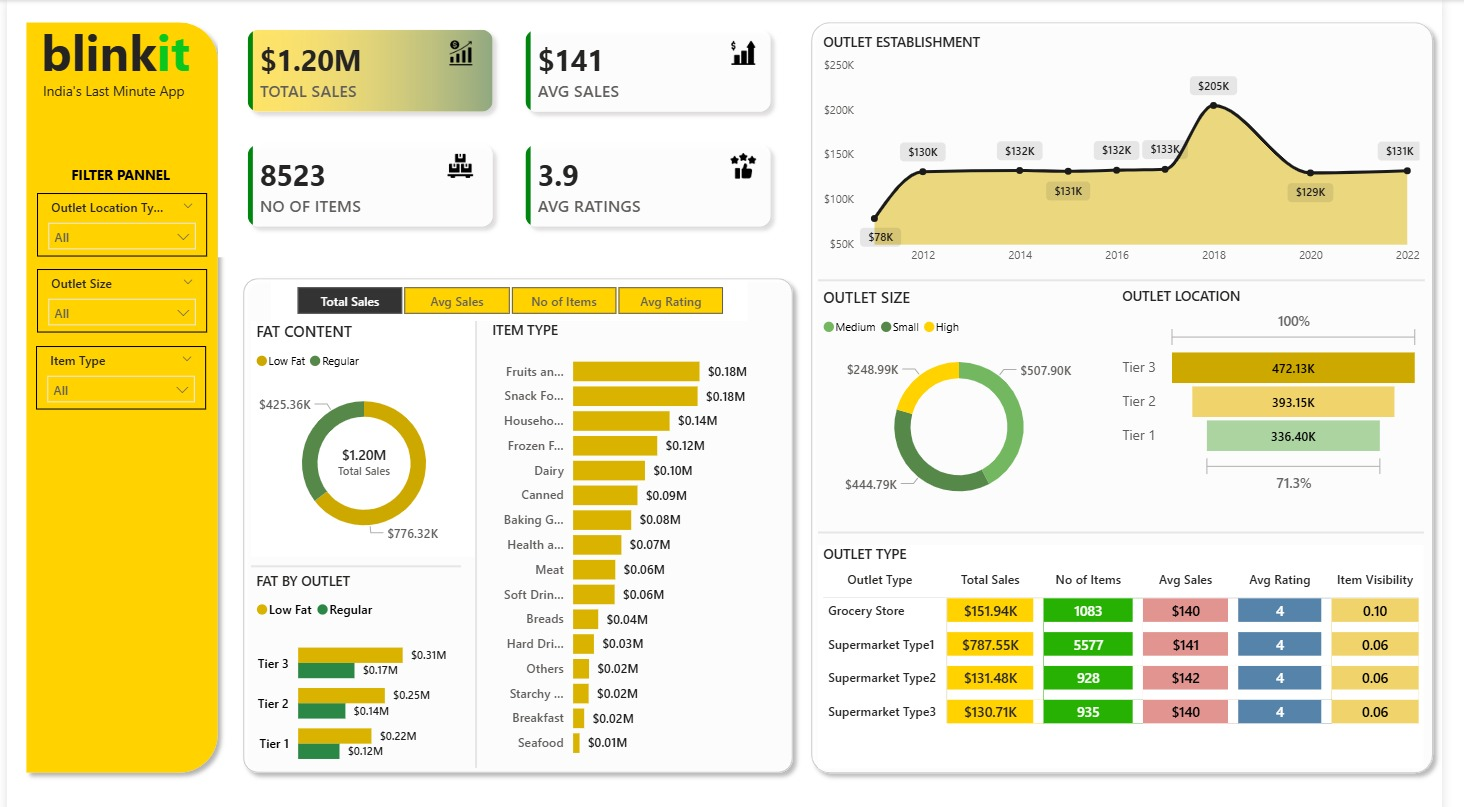

What the dashboard file says about the page in this screenshot:
{"tool":"powerbi","page":{"name":"Page 1","canvas":[1400,800],"ordinal":0},"visuals":[{"type":"shape","box":[9.8,12.7,204.9,750.2],"z":0},{"type":"textbox","box":[28.7,12.8,167,78.7],"z":1000},{"type":"textbox","box":[20.2,75.5,167,31.9],"z":2000},{"type":"cardVisual","fields":{"Data":["BlinkIT Grocery Data.Total Sales","BlinkIT Grocery Data.Avg Sales","BlinkIT Grocery Data.No of Items","BlinkIT Grocery Data.Avg Rating"]},"box":[205.9,0,569.8,250.7],"z":3000},{"type":"image","box":[408.8,39,68.3,25.4],"z":4000},{"type":"image","box":[684.9,39,67.3,25.4],"z":5000},{"type":"image","box":[408.8,149.3,67.3,25.4],"z":6000},{"type":"image","box":[684.9,149.3,67.3,25.4],"z":7000},{"type":"shape","box":[221.5,262.4,554.1,500.5],"z":8000},{"type":"donutChart","title":"FAT CONTENT","fields":{"Y":["BlinkIT Grocery Data.Total Sales"],"Category":["BlinkIT Grocery Data.Item Fat Content"]},"box":[238,313.2,220.5,230.2],"z":9000},{"type":"slicer","fields":{"Values":["Matrix.Matrix"]},"box":[257.6,273.2,465.4,40],"z":10000},{"type":"cardVisual","fields":{"Data":["BlinkIT Grocery Data.Total Sales"]},"box":[291.7,413.7,113.2,73.2],"z":11000},{"type":"clusteredBarChart","title":"FAT BY OUTLET","fields":{"Y":["BlinkIT Grocery Data.Total Sales"],"Category":["BlinkIT Grocery Data.Outlet Location Type"],"Series":["BlinkIT Grocery Data.Item Fat Content"]},"box":[237.6,558.2,220.2,204.8],"z":12000},{"type":"shape","box":[237.6,545.9,204.8,12.3],"z":13000},{"type":"shape","box":[446.5,313.4,21.5,436.3],"z":14000},{"type":"barChart","title":"ITEM TYPE","fields":{"Y":["BlinkIT Grocery Data.Total Sales"],"Category":["BlinkIT Grocery Data.Item Type"]},"box":[468,313.4,284.7,436.3],"z":15000},{"type":"shape","box":[775.3,12.3,624.7,750.7],"z":16000},{"type":"lineChart","title":"OUTLET ESTABLISHMENT","fields":{"Category":["BlinkIT Grocery Data.Outlet Establishment Year"],"Y":["BlinkIT Grocery Data.Total Sales"]},"box":[791.7,31.7,592,234.5],"z":17000},{"type":"shape","box":[791.7,267.3,592,12.3],"z":18000},{"type":"donutChart","title":"OUTLET SIZE","fields":{"Y":["BlinkIT Grocery Data.Total Sales"],"Category":["BlinkIT Grocery Data.Outlet Size"]},"box":[791.2,280,275.1,225.4],"z":19000},{"type":"funnel","title":"OUTLET LOCATION","fields":{"Y":["Sum(BlinkIT Grocery Data.Sales)"],"Category":["BlinkIT Grocery Data.Outlet Location Type"]},"box":[1082.9,280,300.5,206.8],"z":19001},{"type":"shape","box":[791.2,513.2,591.2,12.7],"z":19002},{"type":"pivotTable","title":"OUTLET TYPE","fields":{"Values":["BlinkIT Grocery Data.Total Sales","BlinkIT Grocery Data.No of Items","BlinkIT Grocery Data.Avg Sales","BlinkIT Grocery Data.Avg Rating","Avg(BlinkIT Grocery Data.Item Visibility)"],"Rows":["BlinkIT Grocery Data.Outlet Type"]},"box":[791.2,531.7,591.2,217.6],"z":19003},{"type":"slicer","fields":{"Values":["BlinkIT Grocery Data.Outlet Location Type"]},"box":[29.3,188.3,165.9,62.4],"z":19004},{"type":"slicer","fields":{"Values":["BlinkIT Grocery Data.Outlet Size"]},"box":[29.3,262.4,165.9,62.4],"z":19005},{"type":"slicer","fields":{"Values":["BlinkIT Grocery Data.Item Type"]},"box":[28.3,337.6,165.9,62.4],"z":19006},{"type":"textbox","box":[56.6,157.1,108.3,31.2],"z":19007}]}

Visuals, with their boxes on the page's 1400x800 design canvas (x1, y1, x2, y2). These are canvas units, not pixel positions in the 1464x807 screenshot, which may show the page scaled, cropped or inside an application window:
shape: Rect(10, 13, 215, 763)
textbox: Rect(29, 13, 196, 92)
textbox: Rect(20, 76, 187, 107)
cardVisual - BlinkIT Grocery Data.Total Sales x BlinkIT Grocery Data.Avg Sales: Rect(206, 0, 776, 251)
image: Rect(409, 39, 477, 64)
image: Rect(685, 39, 752, 64)
image: Rect(409, 149, 476, 175)
image: Rect(685, 149, 752, 175)
shape: Rect(222, 262, 776, 763)
"FAT CONTENT" donutChart: Rect(238, 313, 458, 543)
slicer - Matrix.Matrix: Rect(258, 273, 723, 313)
cardVisual - BlinkIT Grocery Data.Total Sales: Rect(292, 414, 405, 487)
"FAT BY OUTLET" clusteredBarChart: Rect(238, 558, 458, 763)
shape: Rect(238, 546, 442, 558)
shape: Rect(446, 313, 468, 750)
"ITEM TYPE" barChart: Rect(468, 313, 753, 750)
shape: Rect(775, 12, 1400, 763)
"OUTLET ESTABLISHMENT" lineChart: Rect(792, 32, 1384, 266)
shape: Rect(792, 267, 1384, 280)
"OUTLET SIZE" donutChart: Rect(791, 280, 1066, 505)
"OUTLET LOCATION" funnel: Rect(1083, 280, 1383, 487)
shape: Rect(791, 513, 1382, 526)
"OUTLET TYPE" pivotTable: Rect(791, 532, 1382, 749)
slicer - BlinkIT Grocery Data.Outlet Location Type: Rect(29, 188, 195, 251)
slicer - BlinkIT Grocery Data.Outlet Size: Rect(29, 262, 195, 325)
slicer - BlinkIT Grocery Data.Item Type: Rect(28, 338, 194, 400)
textbox: Rect(57, 157, 165, 188)
